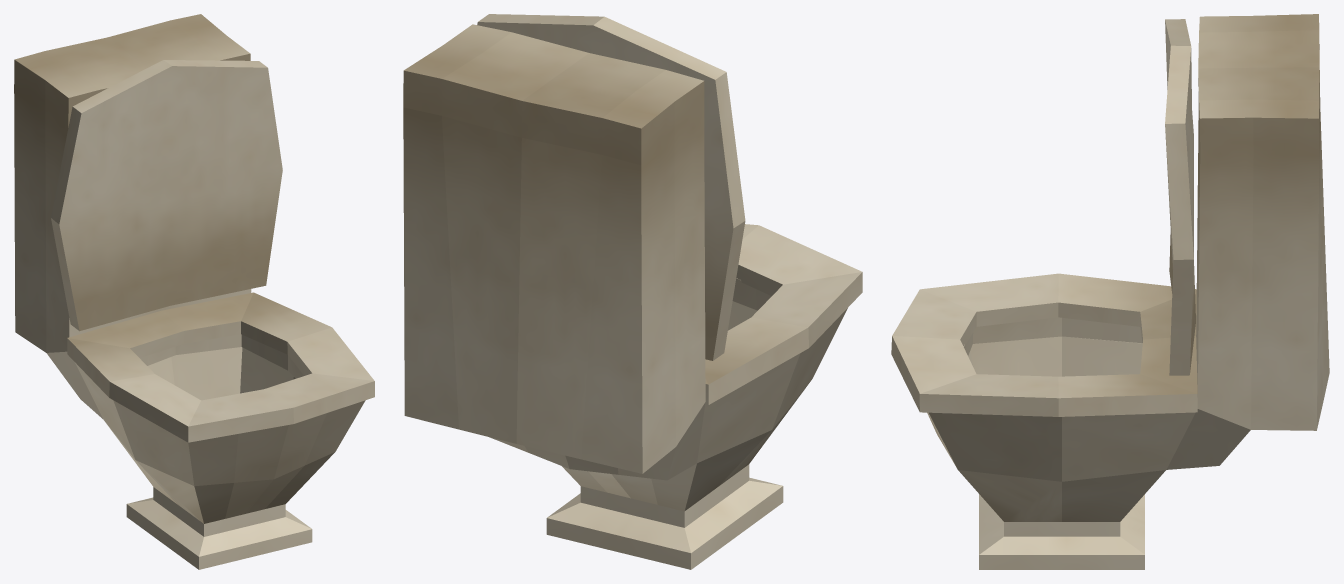
The model's file is Toilet.fbx.
3 renders of one model, left to right at view 1: azimuth 30°, elevation 25°; view 2: azimuth 150°, elevation 25°; view 3: azimuth 270°, elevation 25°, orthographic. The views are drawn at different scales.
Parts seen in each view (by area): view 1: Toilet, ToiletCover, ToiletSeat; view 2: Toilet, ToiletCover, ToiletSeat; view 3: Toilet, ToiletSeat, ToiletCover.
Boxes of the visible parts, x1,y1,x2,y2 form: Toilet: (14, 14, 365, 569); ToiletCover: (51, 60, 282, 331); ToiletSeat: (67, 292, 374, 442); Toilet: (403, 24, 847, 569); ToiletCover: (477, 14, 745, 360); ToiletSeat: (705, 224, 862, 404); Toilet: (927, 14, 1329, 569); ToiletSeat: (891, 273, 1197, 416); ToiletCover: (1165, 19, 1195, 375).
Bounding box in the file's own units: 144 × 213 × 264.
